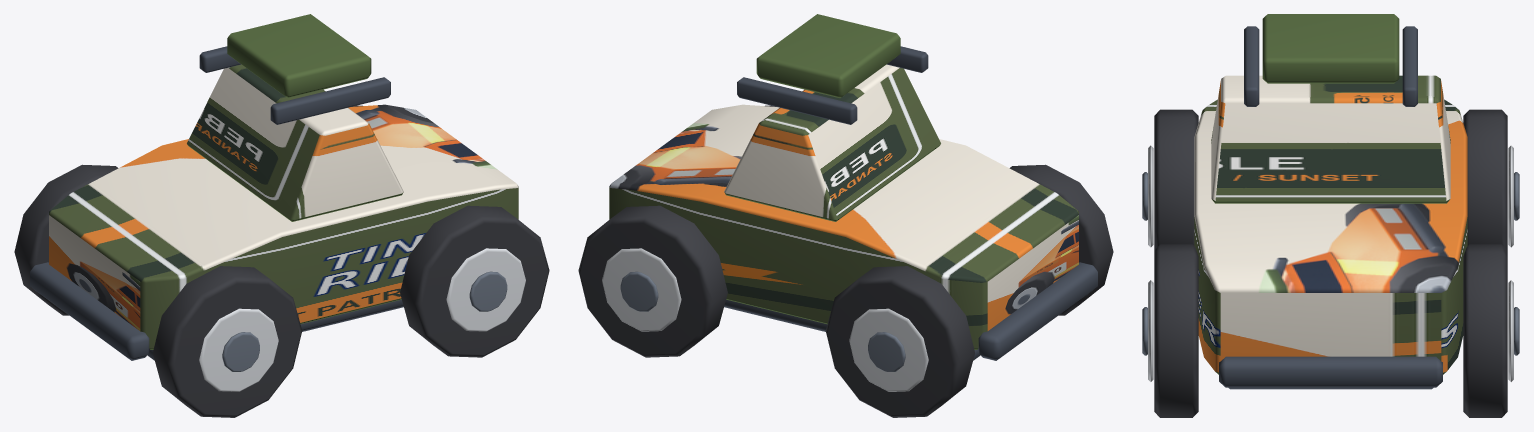
The picture shows the model from 3 angles, left to right: view 1: azimuth 30°, elevation 25°; view 2: azimuth 150°, elevation 25°; view 3: azimuth 270°, elevation 25°; orthographic projection. The views are drawn at different scales.
Parts seen in each view (by area): view 1: DP-01_connected_shell, DP-01_cabin, Tire.002, Tire, utility load, front bumper, Rim.002, Rim, Tire.001, utility rail, Hub.002, Hub (+2 smaller); view 2: DP-01_connected_shell, DP-01_cabin, Tire.003, Tire.001, utility load, front bumper, Rim.003, Rim.001, Tire, utility rail.001, Hub.003, Hub.001 (+2 smaller); view 3: DP-01_connected_shell, DP-01_cabin, utility load, Tire.002, Tire.003, rear bumper, Tire, Tire.001, utility rail, utility rail.001, underbody, Rim (+3 smaller).
Part boxes in pixels (bbox=[...]): DP-01_connected_shell: bbox=[49, 104, 518, 349]; DP-01_cabin: bbox=[187, 64, 403, 221]; Tire.002: bbox=[400, 205, 549, 357]; Tire: bbox=[153, 266, 302, 417]; utility load: bbox=[227, 14, 371, 97]; front bumper: bbox=[30, 262, 150, 360]; Rim.002: bbox=[446, 248, 525, 331]; Rim: bbox=[199, 308, 278, 391]; Tire.001: bbox=[14, 164, 118, 315]; utility rail: bbox=[270, 77, 390, 124]; Hub.002: bbox=[469, 271, 507, 311]; Hub: bbox=[222, 332, 259, 371]; DP-01_connected_shell: bbox=[609, 104, 1078, 349]; DP-01_cabin: bbox=[724, 64, 940, 221]; Tire.003: bbox=[578, 205, 727, 357]; Tire.001: bbox=[825, 266, 974, 417]; utility load: bbox=[756, 14, 900, 97]; front bumper: bbox=[977, 262, 1097, 360]; Rim.003: bbox=[602, 248, 681, 331]; Rim.001: bbox=[849, 308, 928, 391]; Tire: bbox=[1009, 164, 1113, 315]; utility rail.001: bbox=[737, 77, 857, 124]; Hub.003: bbox=[620, 271, 658, 311]; Hub.001: bbox=[868, 332, 905, 371]; DP-01_connected_shell: bbox=[1194, 99, 1467, 374]; DP-01_cabin: bbox=[1211, 75, 1450, 203]; utility load: bbox=[1262, 14, 1399, 83]; Tire.002: bbox=[1154, 244, 1198, 417]; Tire.003: bbox=[1463, 244, 1507, 417]; rear bumper: bbox=[1219, 356, 1442, 387]; Tire: bbox=[1154, 109, 1198, 249]; Tire.001: bbox=[1463, 109, 1507, 249]; utility rail: bbox=[1244, 26, 1259, 106]; utility rail.001: bbox=[1402, 26, 1417, 106]; underbody: bbox=[1228, 387, 1433, 389]; Rim: bbox=[1148, 145, 1153, 247].
Bounding box in the file's own units: 306 × 205 × 221.
